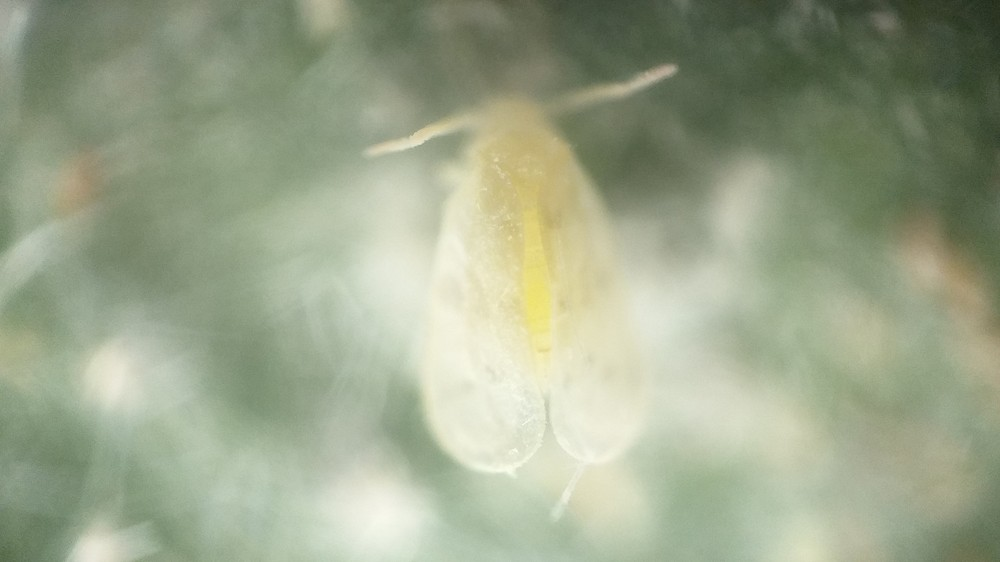Mosca Blanca: (335, 53, 721, 491)
